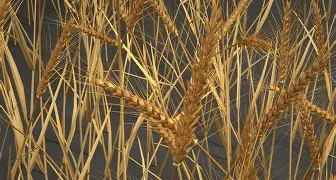crops: (2, 1, 331, 176)
